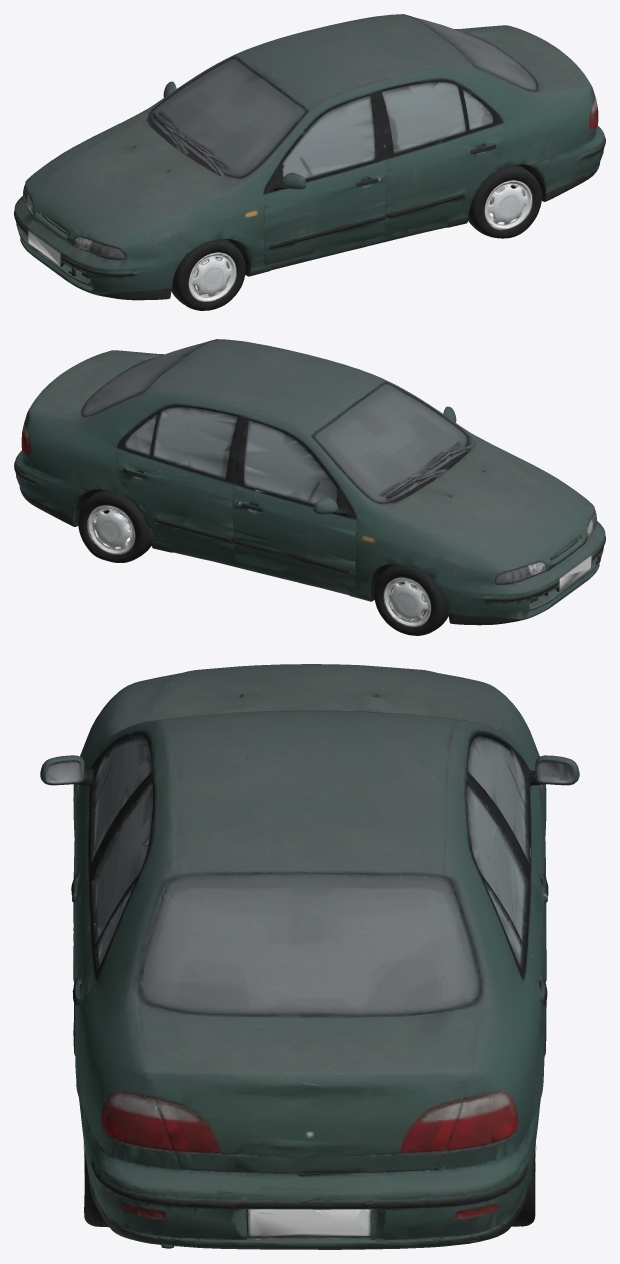
Rendered from barao__01a16960.glb.
3 renders of one model, top to bottom at view 1: azimuth 30°, elevation 25°; view 2: azimuth 150°, elevation 25°; view 3: azimuth 270°, elevation 25°, orthographic. The views are drawn at different scales.
Visible parts, largest first — view 1: barao__01a16960; view 2: barao__01a16960; view 3: barao__01a16960.
Part boxes in pixels (x1,y1,x2,y2): barao__01a16960: (14,14,605,310); barao__01a16960: (14,339,605,635); barao__01a16960: (40,664,579,1249).
Bounding box in the file's own units: 4.39 × 1.38 × 1.95.
Materials: 1 (1 with a texture image).
